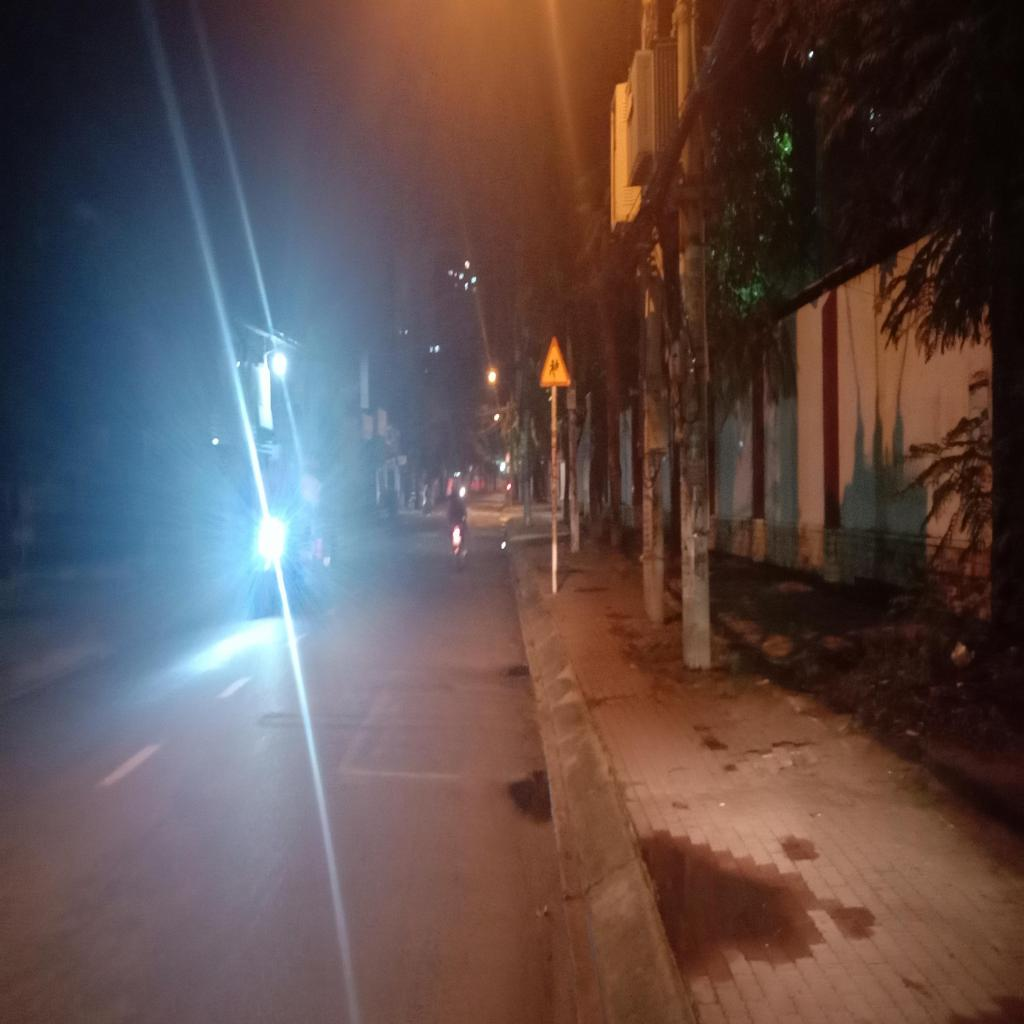chu_y_tre_em: (538, 334, 573, 386)
